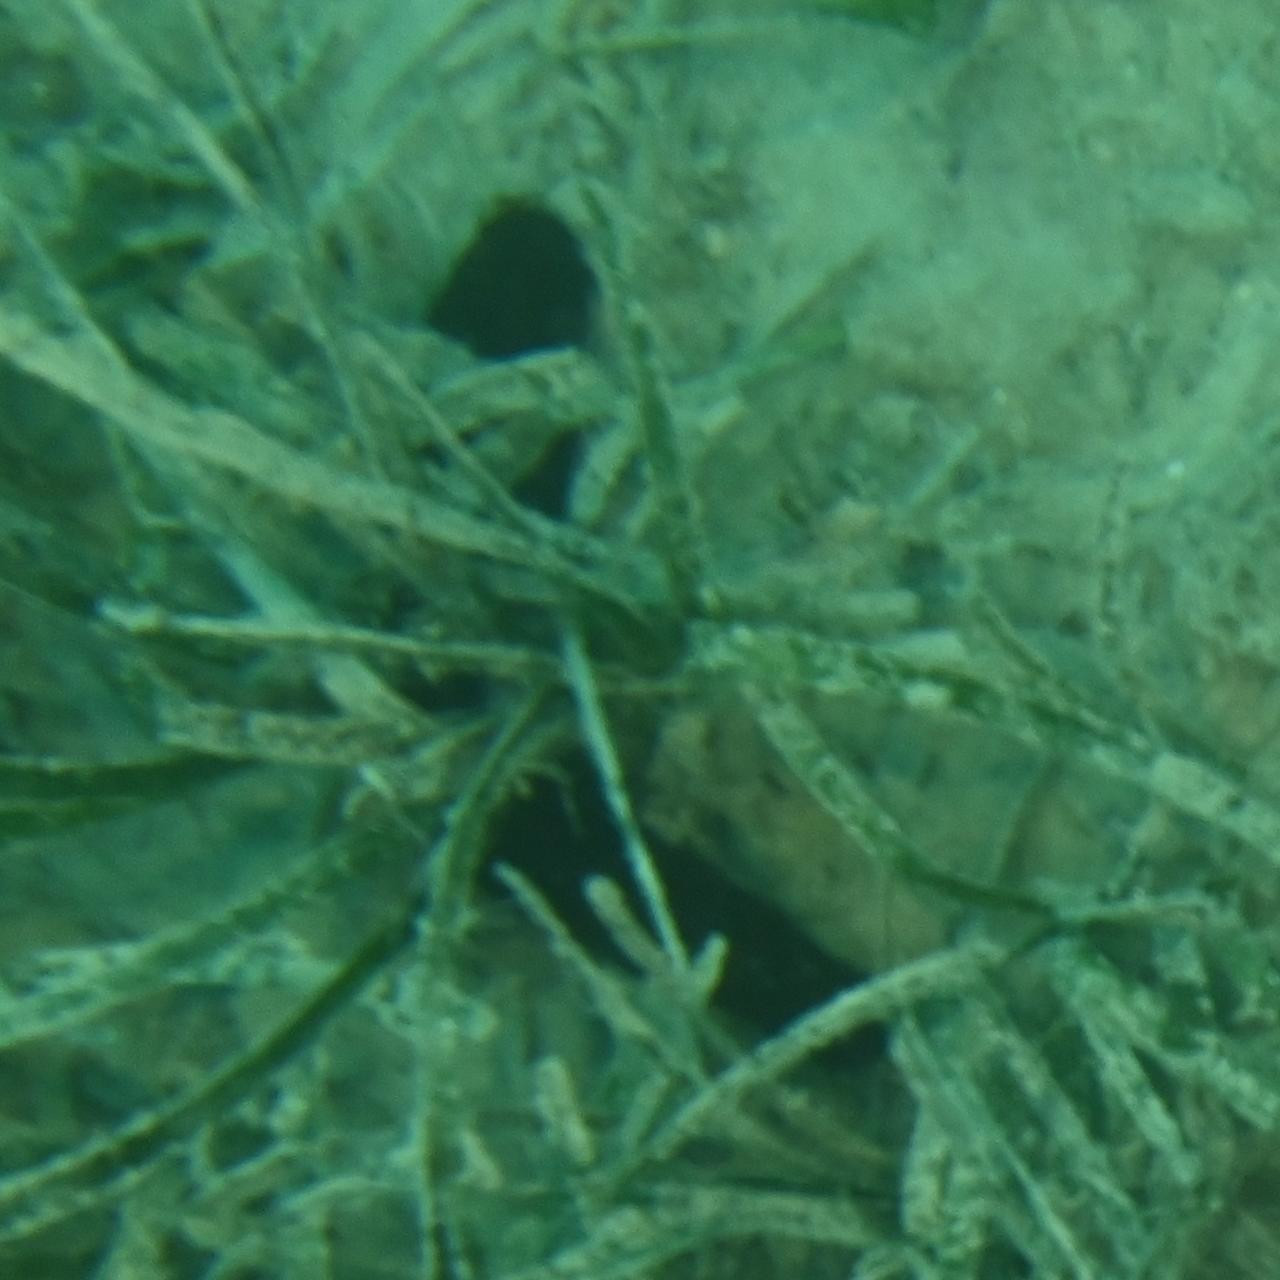Holothuria tubulosa: (385, 200, 895, 1080)
